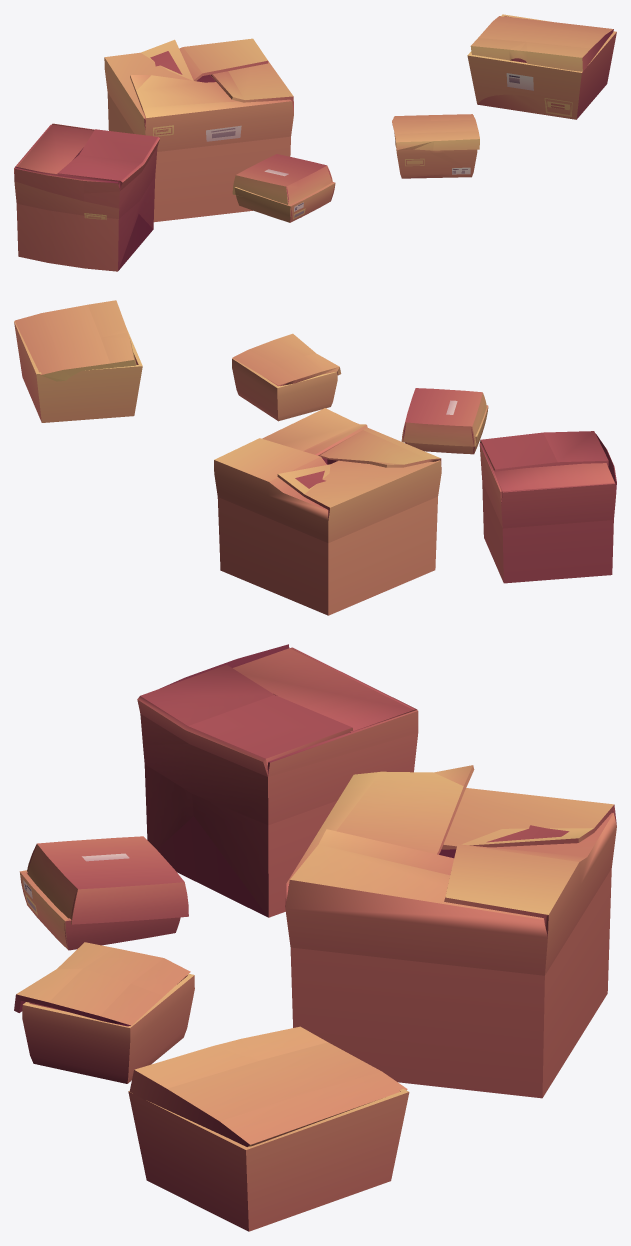
Rendered from SM_Unboxing_Boxes.fbx.
3 renders of one model, top to bottom at view 1: azimuth 30°, elevation 25°; view 2: azimuth 150°, elevation 25°; view 3: azimuth 270°, elevation 25°, orthographic. The views are drawn at different scales.
Visible parts, largest first — view 1: SM_Box4, SM_Box5, SM_Box1, SM_Box3, SM_Box2; view 2: SM_Box4, SM_Box5, SM_Box1, SM_Box3, SM_Box2; view 3: SM_Box4, SM_Box5, SM_Box1, SM_Box3, SM_Box2.
Boxes of the visible parts, box(x1,y1,x2,y2) form: SM_Box4: box(104, 38, 293, 222); SM_Box5: box(14, 123, 159, 271); SM_Box1: box(467, 14, 616, 119); SM_Box3: box(392, 114, 479, 178); SM_Box2: box(232, 154, 335, 222); SM_Box4: box(214, 408, 441, 615); SM_Box5: box(479, 431, 616, 583); SM_Box1: box(14, 300, 142, 422); SM_Box3: box(232, 333, 341, 421); SM_Box2: box(401, 388, 488, 454); SM_Box4: box(285, 765, 616, 1098); SM_Box5: box(137, 644, 418, 917); SM_Box1: box(128, 1026, 409, 1231); SM_Box3: box(14, 942, 194, 1083); SM_Box2: box(19, 836, 188, 950).
Bounding box in the file's own units: 3286 × 647 × 1653.
